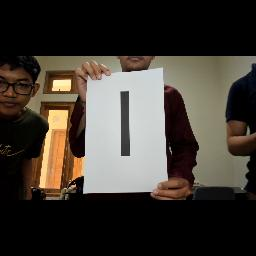i: (114, 85, 134, 163)
